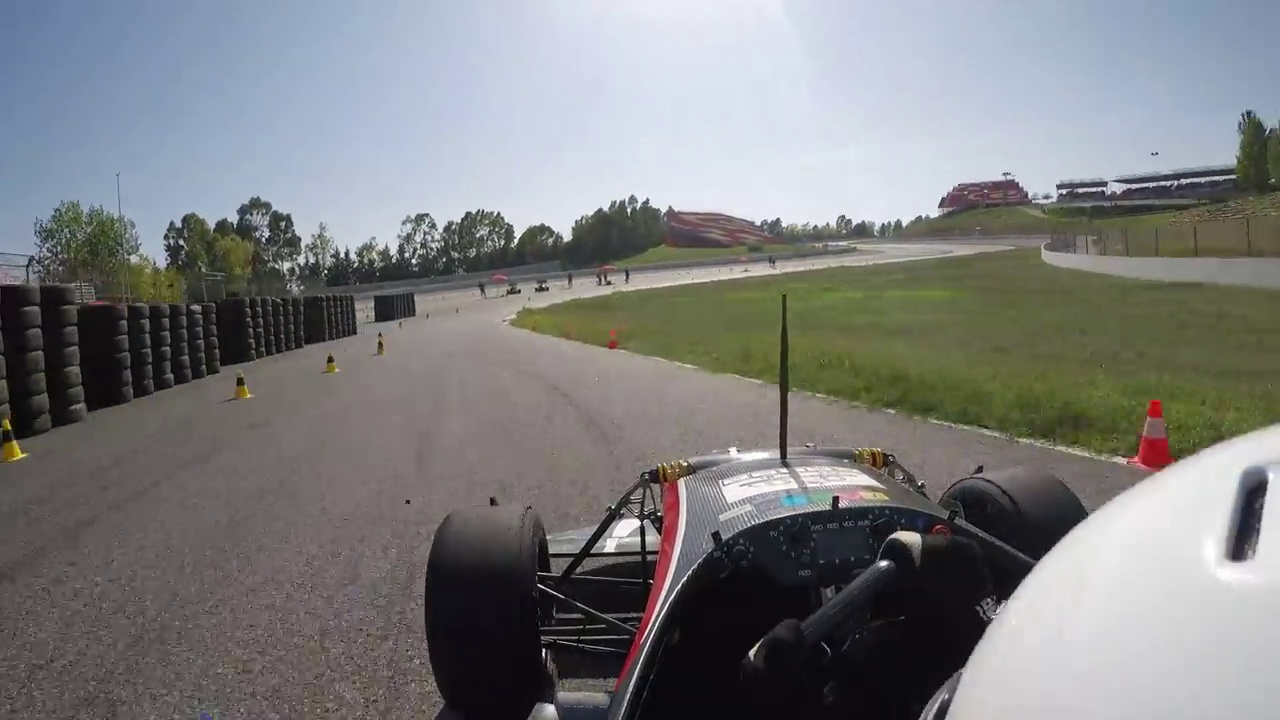Cone: (1129, 397, 1180, 470), (1, 419, 32, 461), (230, 366, 252, 400)
